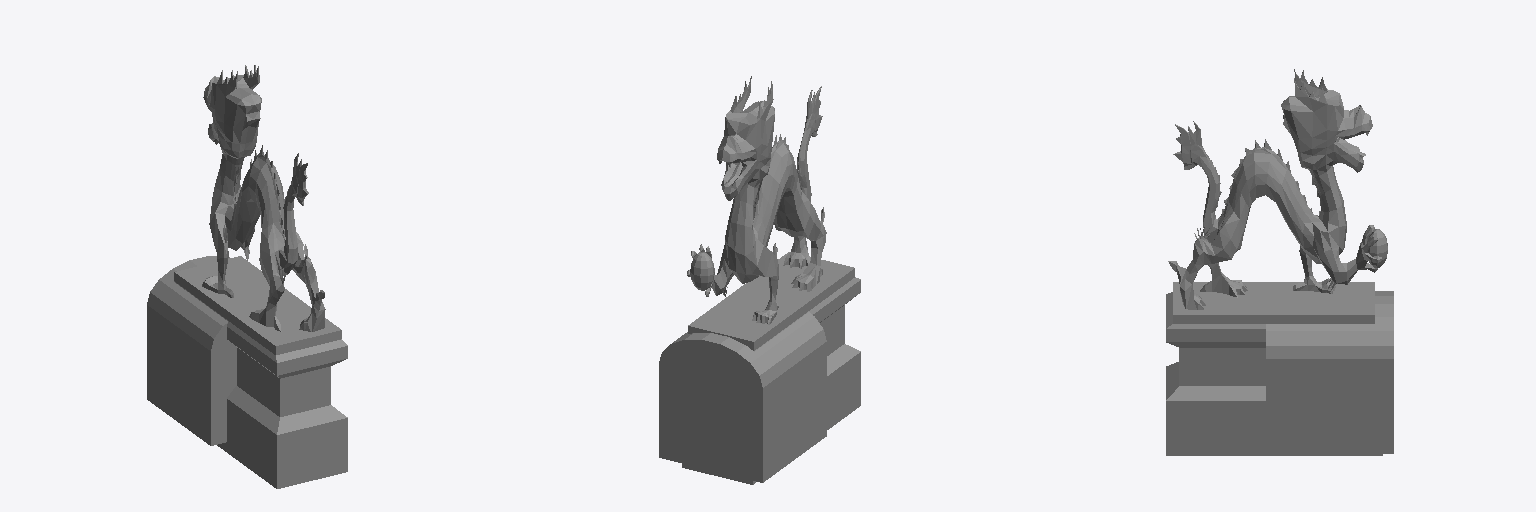
Rendered from main_ridge_PUNCH_0.obj.
The picture shows the model from 3 angles: view 1: azimuth 30°, elevation 25°; view 2: azimuth 150°, elevation 25°; view 3: azimuth 270°, elevation 25°; orthographic projection.
Parts seen in each view (by area): view 1: dragon, Cylinder01_20; view 2: dragon, Cylinder01_20; view 3: dragon, Cylinder01_20.
Part boxes in pixels (bbox=[...]): dragon: bbox=[174, 65, 347, 488]; Cylinder01_20: bbox=[147, 256, 236, 445]; dragon: bbox=[682, 76, 860, 484]; Cylinder01_20: bbox=[659, 312, 826, 482]; dragon: bbox=[1166, 69, 1387, 455]; Cylinder01_20: bbox=[1266, 291, 1393, 453].
Bounding box in the file's own units: 1.31 × 4.41 × 2.5.